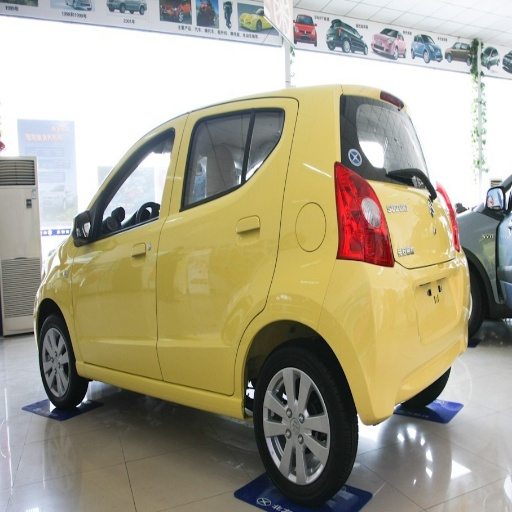back_left_door: (157, 106, 284, 387)
back_left_light: (337, 149, 394, 266)
trunk: (379, 173, 451, 285), (389, 305, 451, 382)
